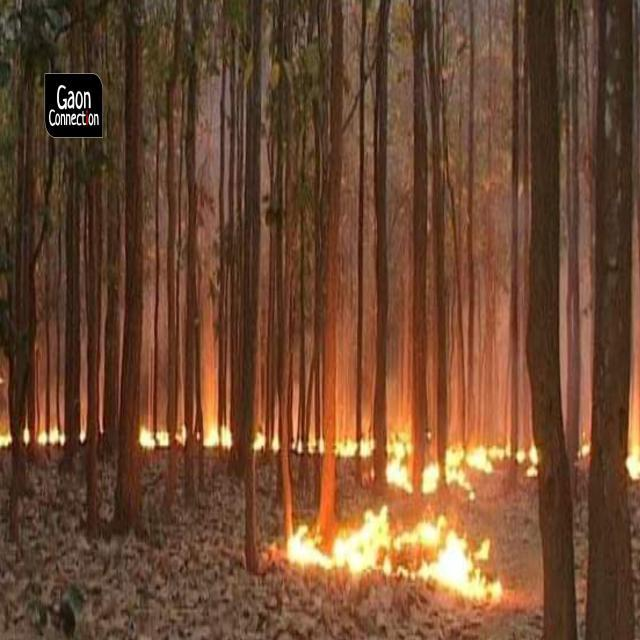Fire: (428, 528, 498, 598), (332, 505, 393, 575), (396, 508, 449, 548), (290, 507, 318, 572), (387, 435, 412, 492), (468, 444, 510, 474), (446, 448, 464, 488), (423, 461, 438, 496), (336, 438, 359, 458), (136, 426, 154, 449), (626, 454, 640, 480), (201, 427, 219, 447), (156, 428, 168, 449), (360, 436, 372, 457), (220, 428, 232, 448), (270, 433, 280, 454), (525, 468, 540, 480), (580, 443, 592, 458), (50, 427, 58, 447), (78, 430, 88, 446), (530, 443, 538, 463), (516, 447, 526, 462), (0, 434, 12, 446), (256, 432, 264, 450), (38, 432, 46, 446), (296, 441, 304, 454), (320, 440, 326, 456), (60, 430, 65, 447), (24, 432, 29, 443)
